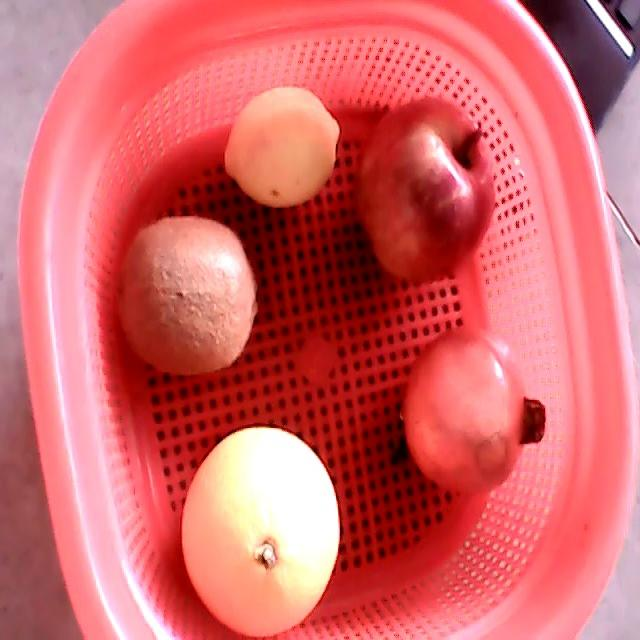apple: (357, 97, 498, 283)
kiwi: (116, 216, 258, 379)
lemon: (224, 87, 343, 209)
orange: (182, 426, 340, 639)
pomegranate: (402, 324, 545, 495)
